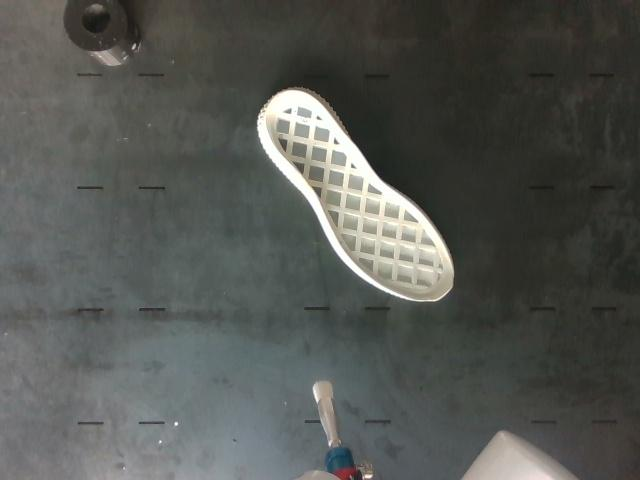shoes: (265, 90, 453, 300)
